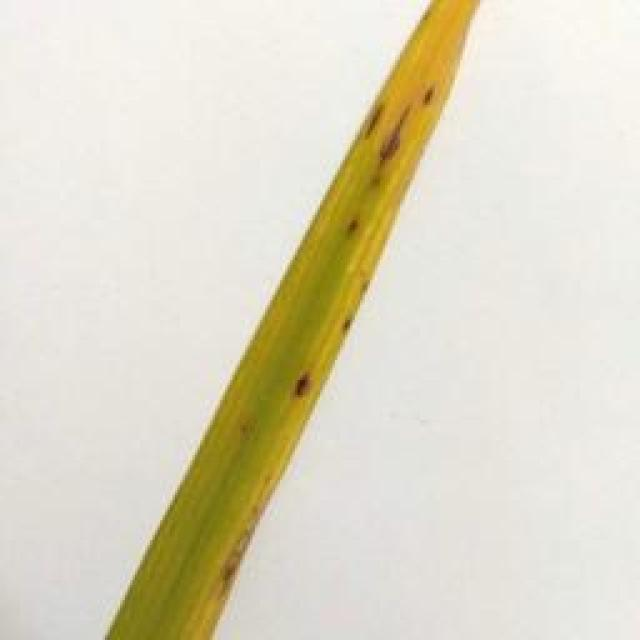Brown_Spot: (344, 66, 395, 170), (228, 477, 265, 599), (373, 99, 414, 186), (316, 308, 376, 345), (409, 71, 447, 122), (284, 362, 322, 411), (346, 194, 373, 249), (345, 269, 379, 297), (229, 407, 248, 442)
